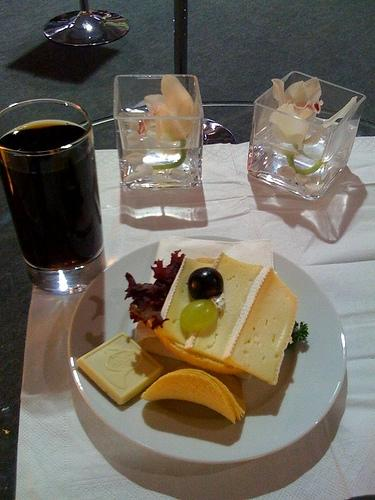grape: (186, 267, 224, 300), (180, 299, 217, 332)
